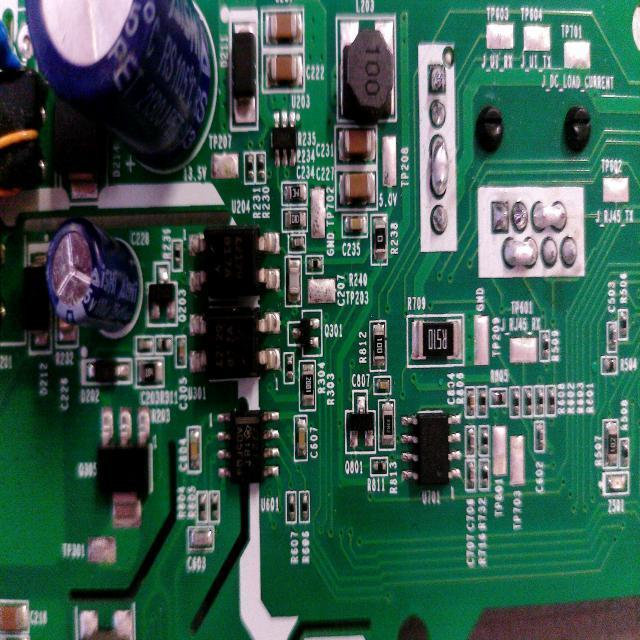Soldering shorted: (426, 134, 453, 198), (501, 235, 538, 278), (532, 198, 564, 234)
